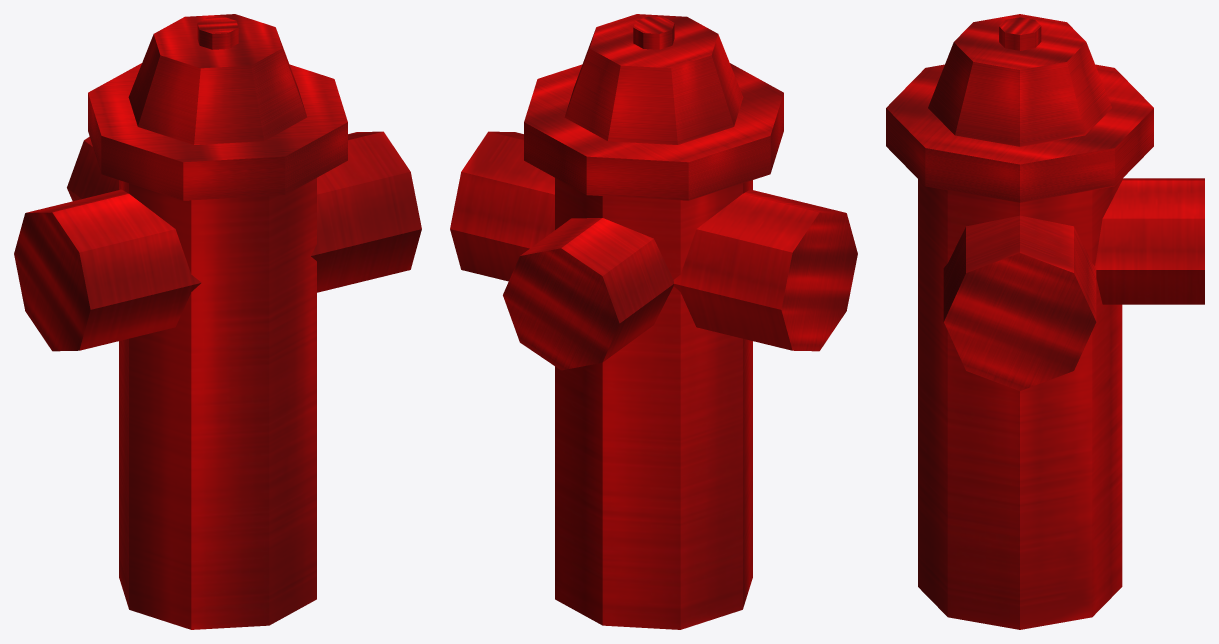
The model's file is town_small_01.fbx.
The picture shows the model from 3 angles, left to right: view 1: azimuth 30°, elevation 25°; view 2: azimuth 150°, elevation 25°; view 3: azimuth 270°, elevation 25°; orthographic projection.
Parts seen in each view (by area): view 1: town_small_01; view 2: town_small_01; view 3: town_small_01.
Part boxes in pixels (<box>): town_small_01: <box>14,14,421,629</box>; town_small_01: <box>450,14,857,629</box>; town_small_01: <box>886,14,1204,629</box>.
Bounding box in the file's own units: 52.5 × 85.19 × 43.91.
